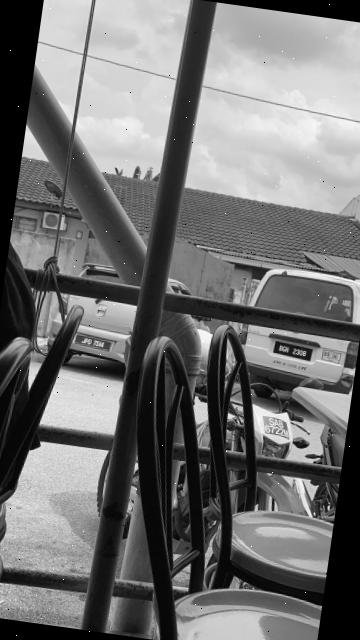License_Plate: (271, 337, 317, 366), (257, 413, 295, 445), (76, 332, 113, 354)
car: (227, 255, 360, 400), (51, 255, 192, 375)
